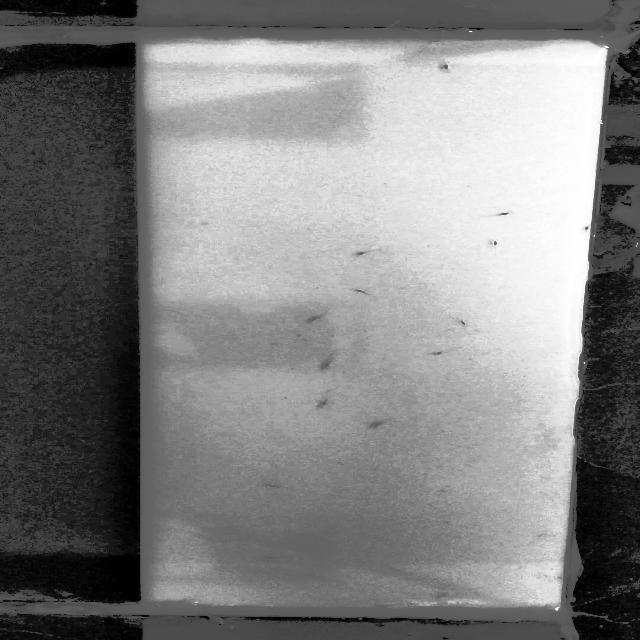shrimp: (313, 350, 341, 368), (352, 246, 390, 258), (314, 396, 340, 412), (487, 212, 535, 220), (350, 287, 379, 300), (303, 310, 334, 322), (439, 61, 465, 73), (454, 317, 475, 328), (576, 221, 594, 233), (268, 484, 297, 491), (373, 602, 406, 608), (432, 34, 454, 43), (260, 554, 280, 563), (420, 349, 449, 355), (488, 239, 504, 248), (374, 420, 386, 428)
